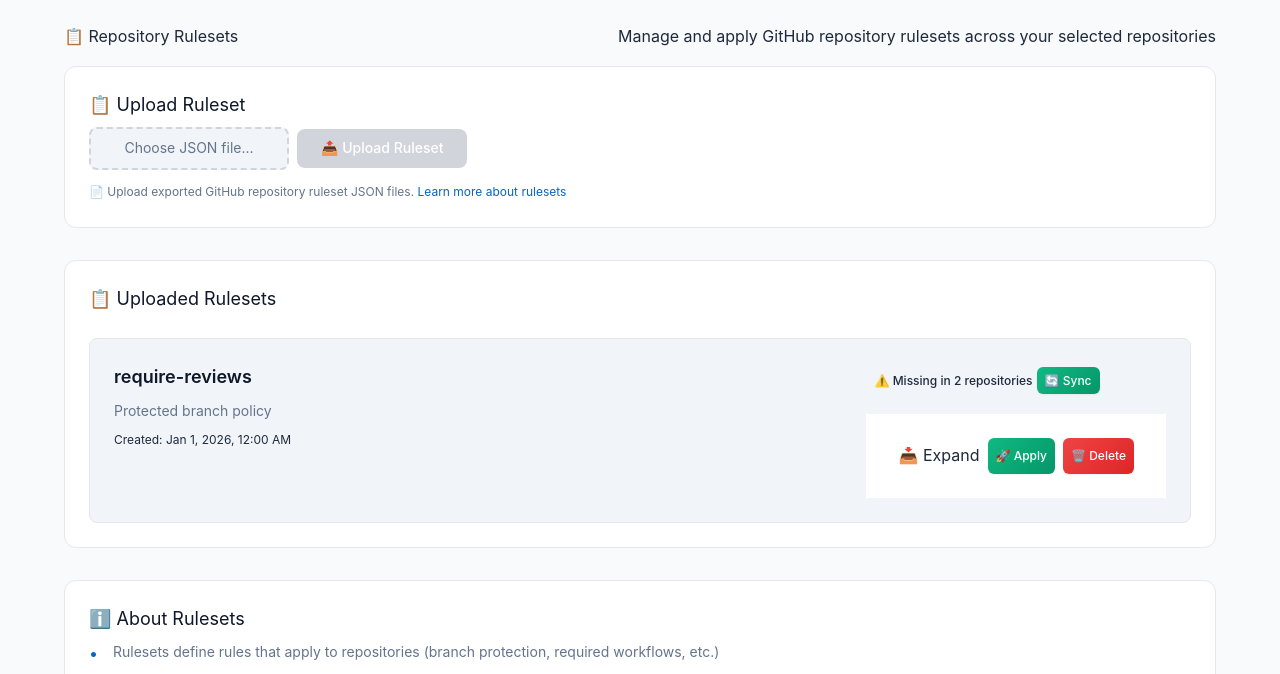
RulesetManager ruleset sync › skips repositories whose status could not be checked
This screenshot has width=1280, height=674.
expect the heading "require-reviews" is shown: met, box [114,366,252,387]
Click the button titled "Sync ruleset to missing repositories" at (1068, 381), box [1037,367,1100,394]
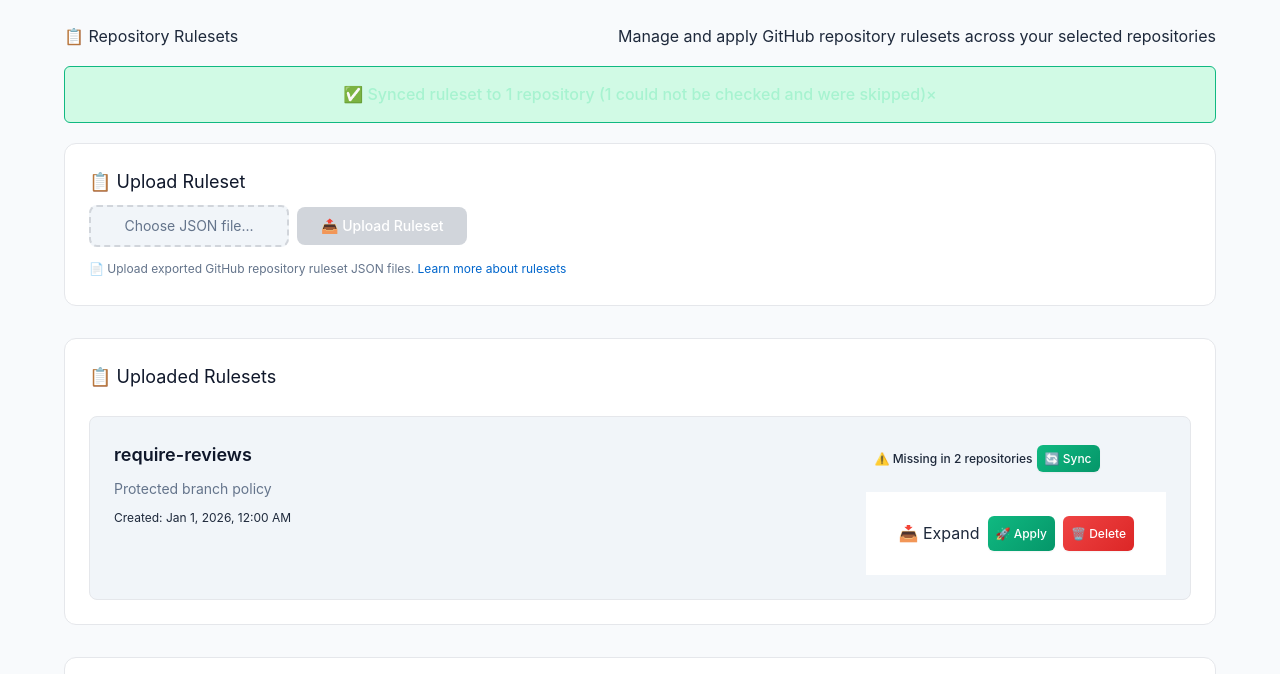
expect the text "1 could not be checked and were skipped" is shown: met, box [368,84,926,104]
